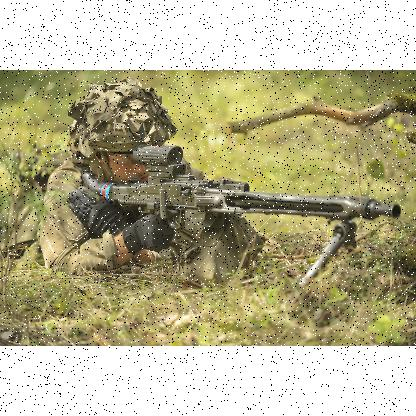gun: (84, 145, 396, 288)
